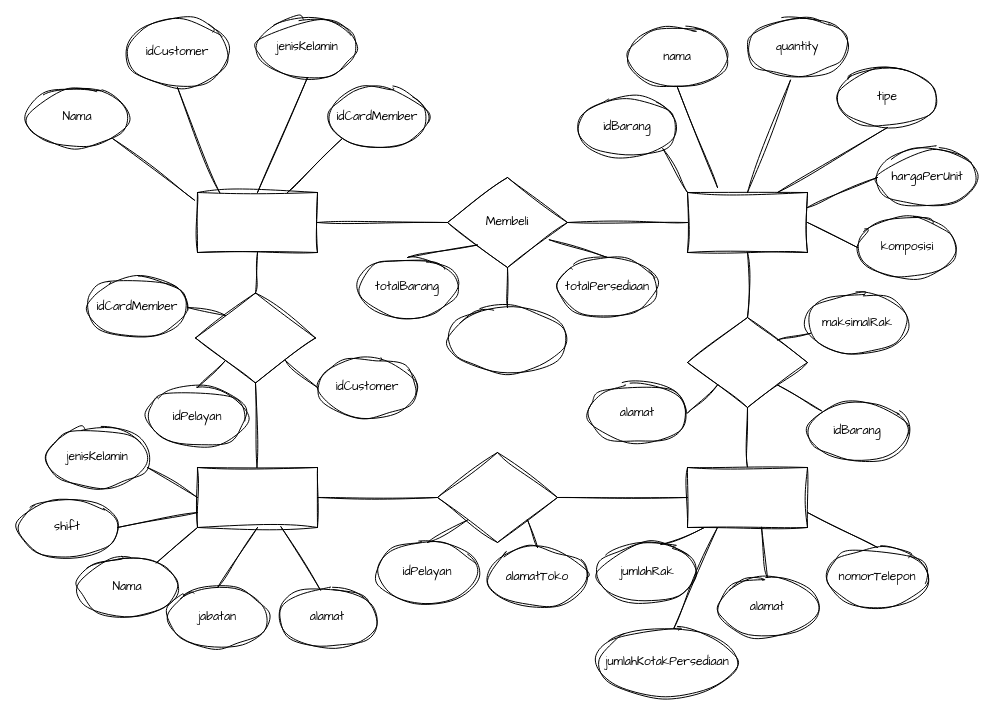
Image size: 995x715. Some labels were removed from this diagram. The shapes that lost their labels are listed below. From the top down, each one's centre as x and y in pixels, then its label:
At point (257, 222): "Customer".
At point (747, 222): "Barang".
At point (255, 337): "Melayani".
At point (507, 339): "metodePembayaran".
At point (747, 362): "Menyediakan".
At point (257, 497): "Pelayan".
At point (497, 497): "Memelihara".
At point (747, 497): "Toko".
